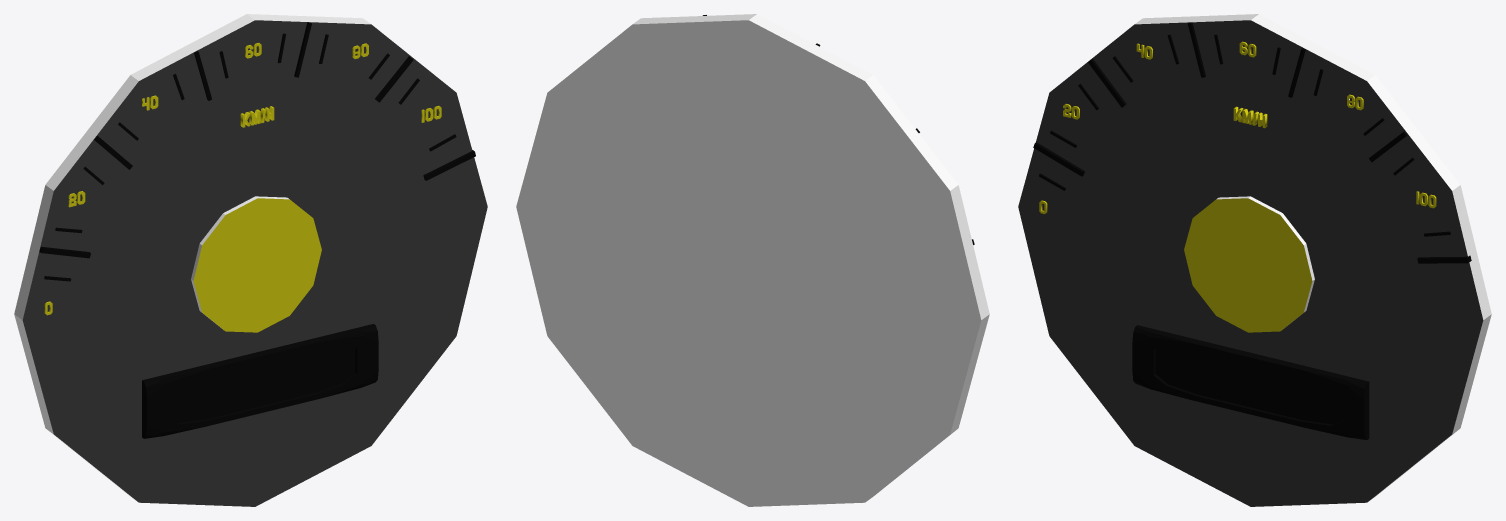
File: Speedometer.fbx
3 views of the same model, side by side, from view 1: azimuth 30°, elevation 25°; view 2: azimuth 150°, elevation 25°; view 3: azimuth 330°, elevation 25° (orthographic).
Visible parts, largest first — view 1: Speedometer; view 2: Speedometer; view 3: Speedometer.
Part boxes in pixels (x1,y1,x2,y2): Speedometer: (14,14,487,506); Speedometer: (516,14,989,506); Speedometer: (1018,14,1491,506).
Bounding box in the file's own units: 200 × 200 × 10.05.
